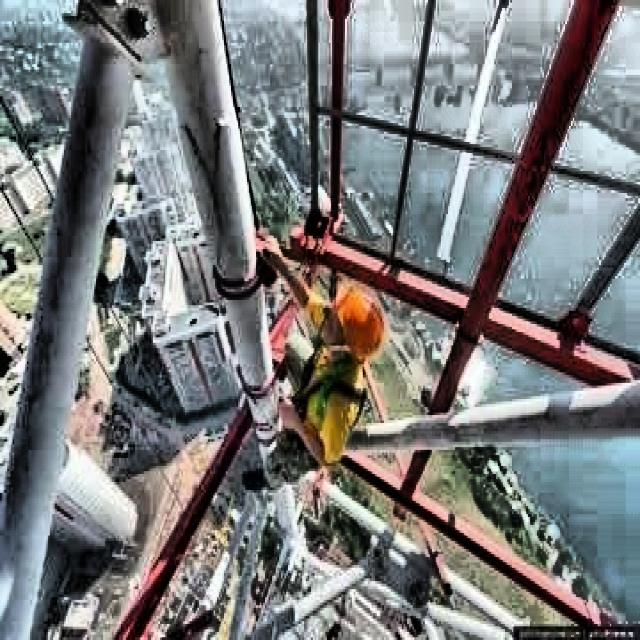helmet: (322, 278, 389, 375)
